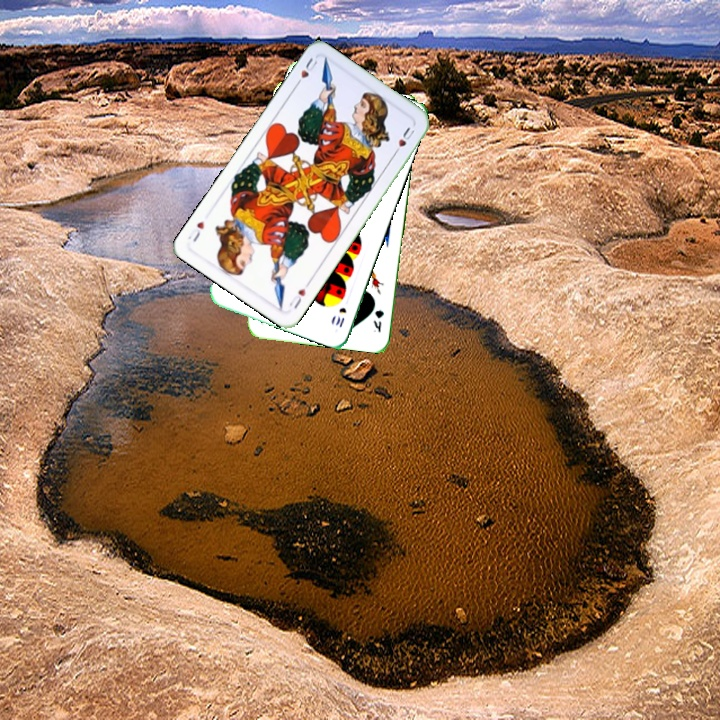GK: (369, 306, 386, 335)
HU: (291, 54, 320, 89), (285, 278, 313, 311)
S10: (332, 303, 349, 330)
